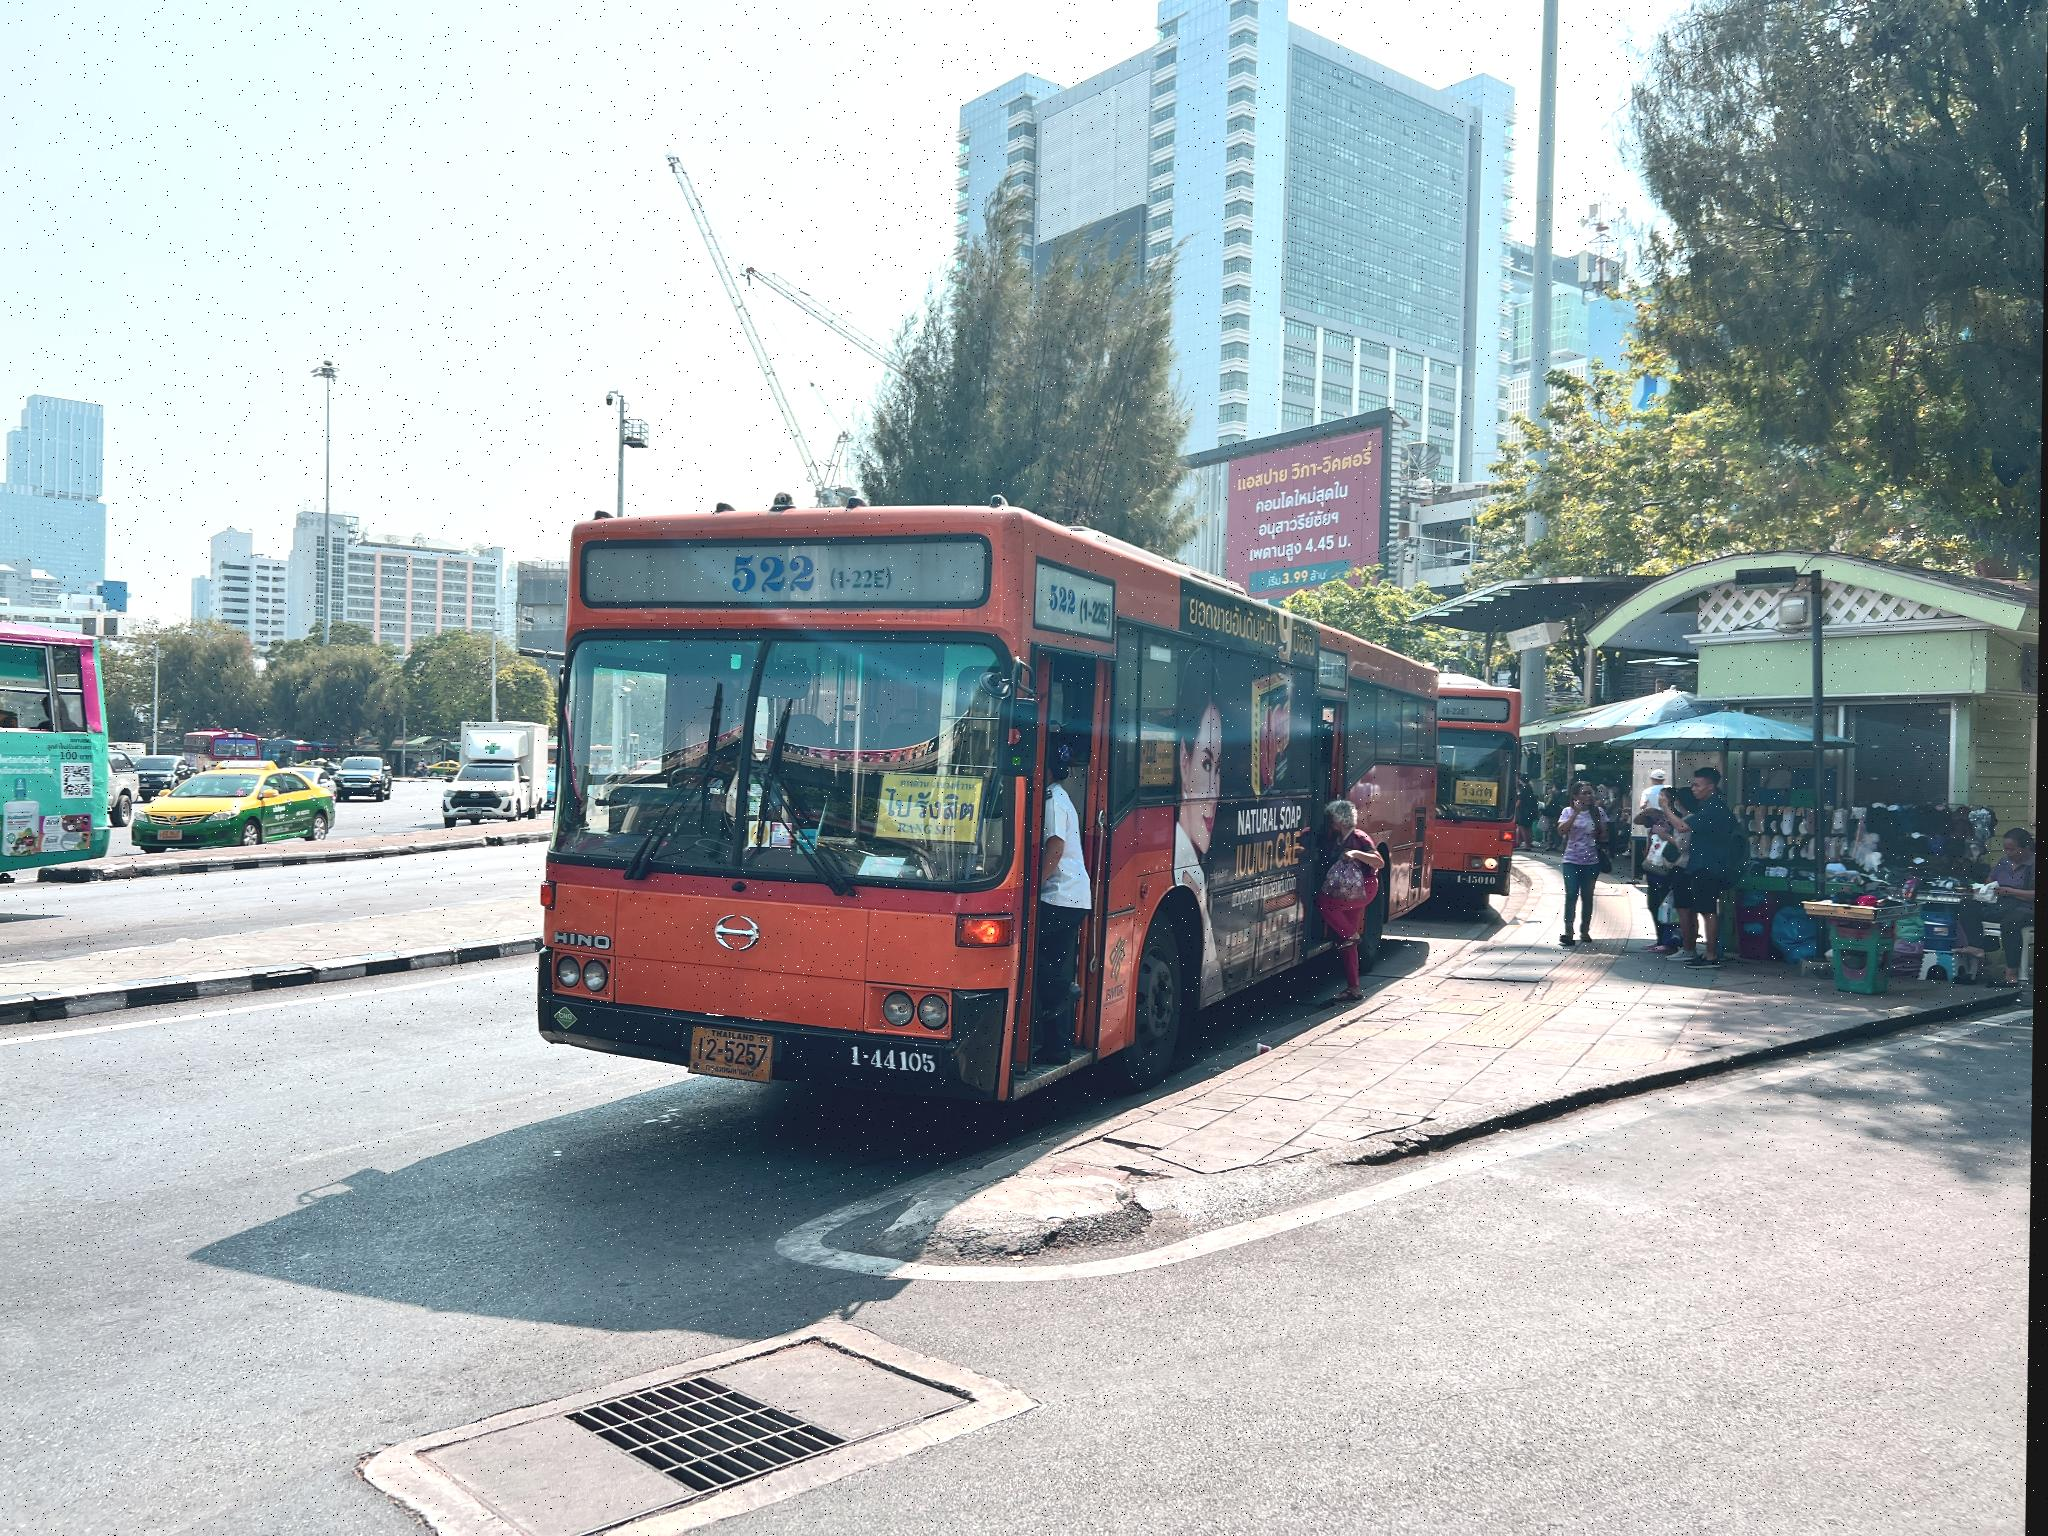BMTA-bus: (535, 508, 1463, 1112), (1427, 668, 1527, 913)
Bus Line Number: (719, 541, 901, 605)
Bus Side Number: (848, 1041, 942, 1076)
Destination Sign: (877, 768, 985, 849)
